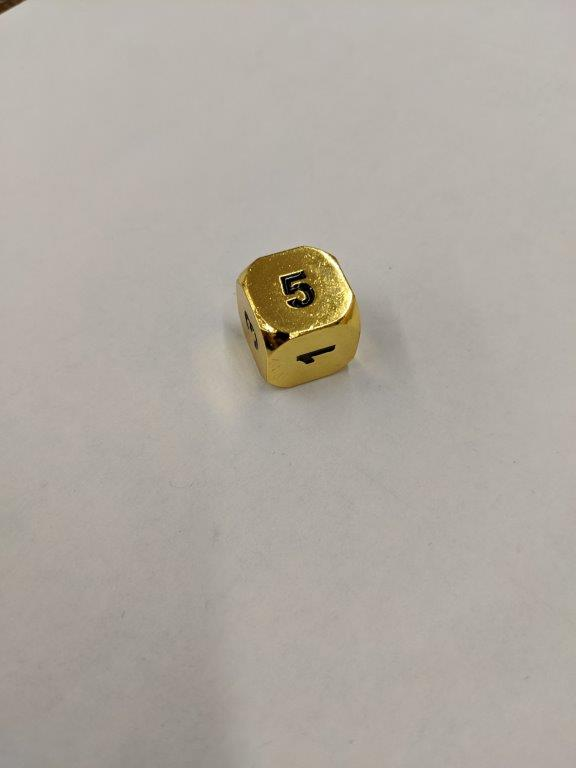d6-5: (236, 245, 361, 391)
